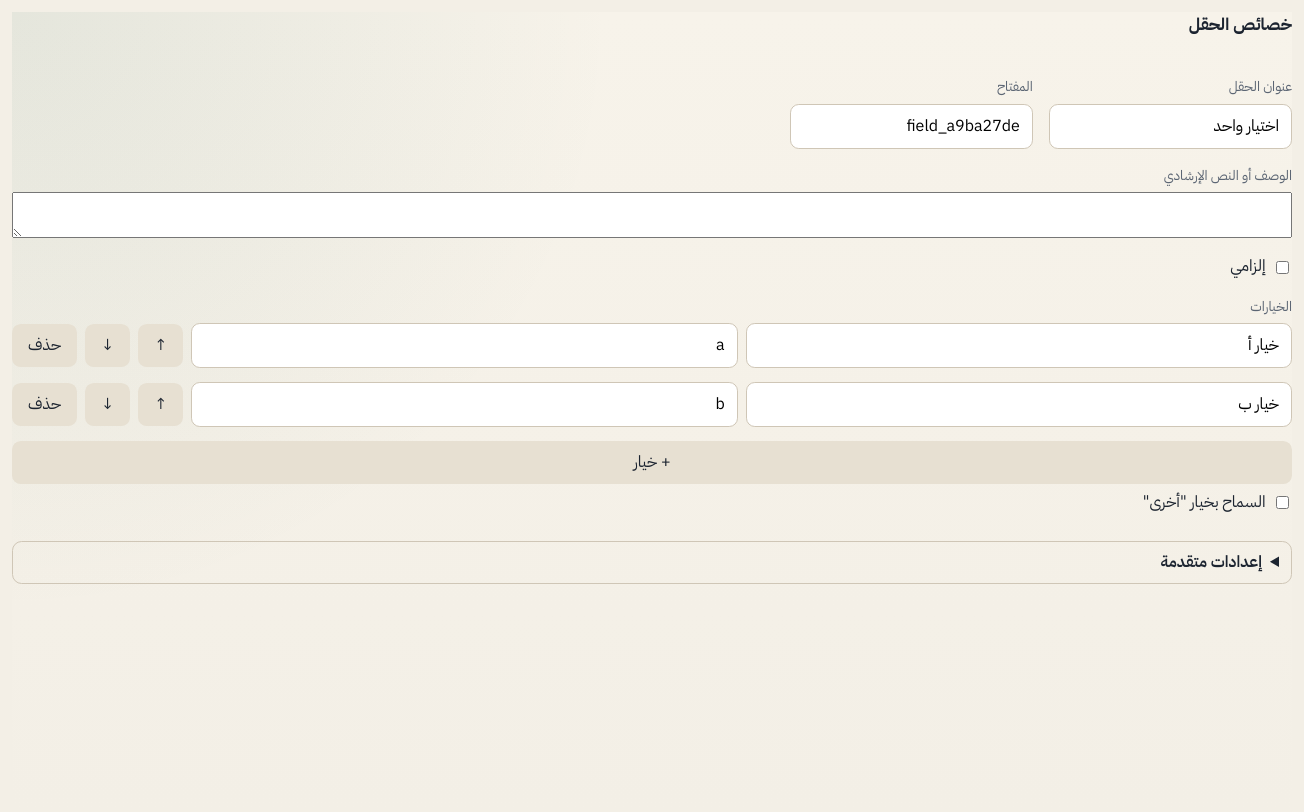
Scenario: StudioInspector choice options › does not lose focus while typing into an option label input
Type " معدّل" into the field named "نص الخيار 2". click: point(1019, 405)
box: [746,382,1292,427]
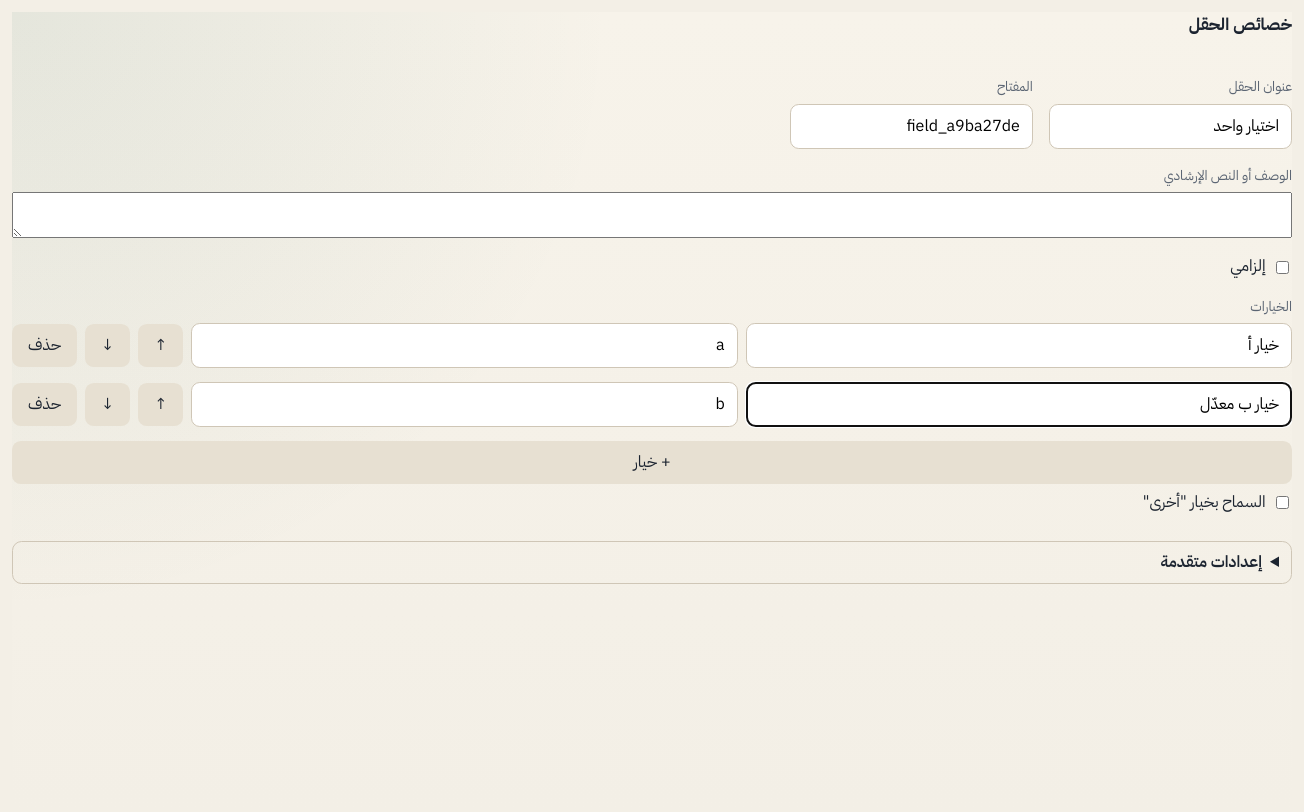
Expected: the field named "نص الخيار 2" holds "خيار ب معدّل", [746,382,1292,427]
